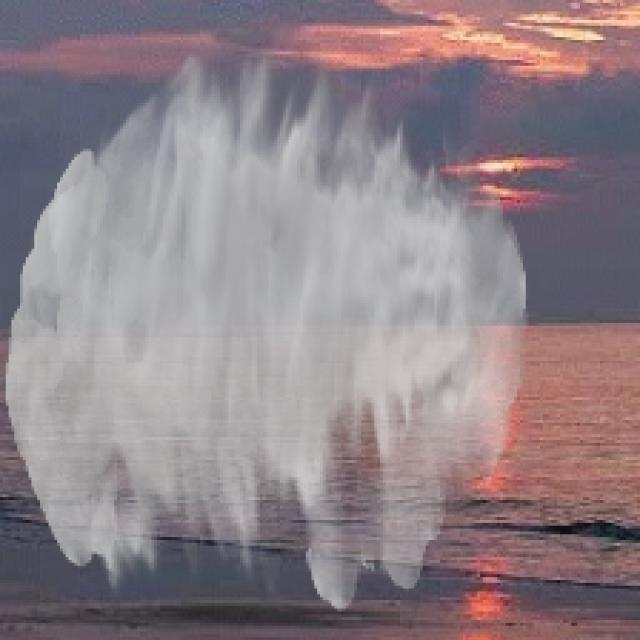smoke: (6, 46, 528, 611)
